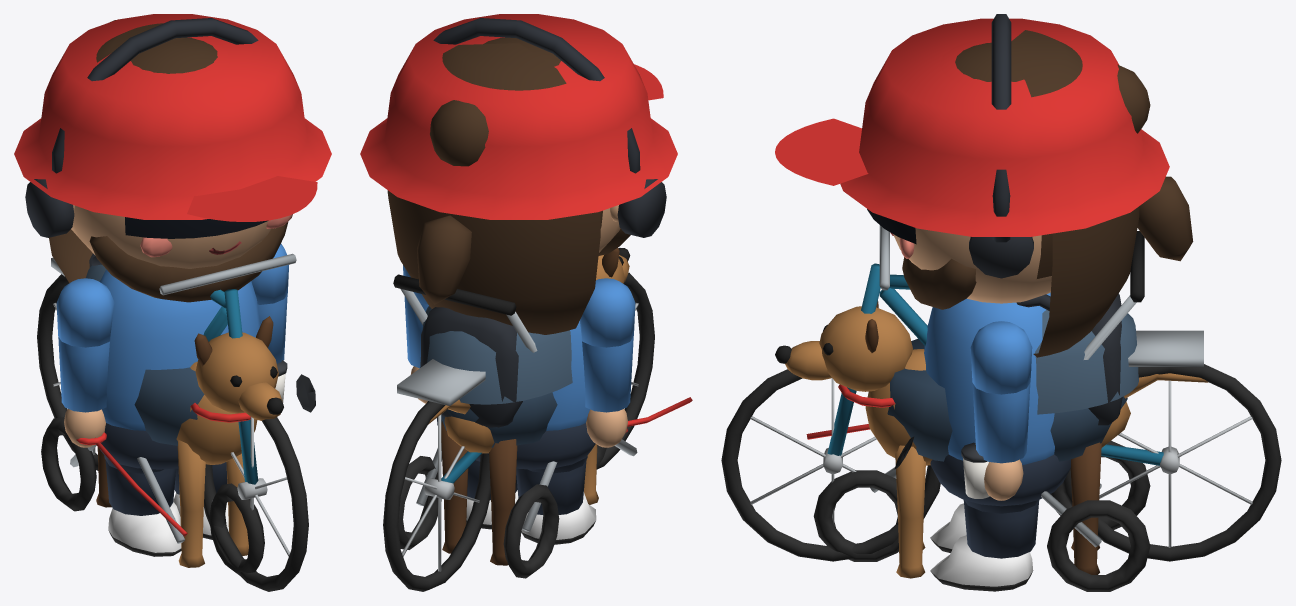
Rendered from people.glb.
3 views of the same model, side by side, from view 1: azimuth 30°, elevation 25°; view 2: azimuth 150°, elevation 25°; view 3: azimuth 270°, elevation 25° (orthographic). The views are drawn at different scales.
Parts seen in each view (by area): view 1: Look_bucket, Torso, Pram_Body, DogHead_Parts, WheelF_Mesh, Head_Face, Look_headphones, Look_cap, Look_beard, ArmL_Long, Bicycle_Frame, LegFL_Mesh (+16 smaller); view 2: Look_bucket, Look_long, Pram_Body, WheelR_Mesh, Look_headphones, Torso, Look_backpack, ArmL_Long, Look_ponytail, Look_bun, Bicycle_Frame, LegBL_Mesh (+13 smaller); view 3: Look_bucket, Pram_Body, Torso, Look_long, WheelR_Mesh, DogHead_Parts, WheelF_Mesh, Bicycle_Frame, Look_cap, ArmR_Long, Look_headphones, Head_Face (+14 smaller).
Part boxes in pixels (bbox=[...]): Look_bucket: bbox=[14, 14, 331, 219]; Torso: bbox=[100, 269, 260, 469]; Pram_Body: bbox=[41, 264, 264, 575]; DogHead_Parts: bbox=[190, 316, 283, 422]; WheelF_Mesh: bbox=[204, 417, 308, 591]; Head_Face: bbox=[71, 205, 292, 268]; Look_headphones: bbox=[25, 18, 258, 237]; Look_cap: bbox=[122, 36, 317, 221]; Look_beard: bbox=[89, 222, 288, 302]; ArmL_Long: bbox=[56, 278, 114, 412]; Bicycle_Frame: bbox=[51, 253, 296, 484]; LegFL_Mesh: bbox=[177, 440, 205, 567]; Look_bucket: bbox=[360, 14, 677, 219]; Look_long: bbox=[387, 43, 600, 334]; Pram_Body: bbox=[393, 274, 637, 578]; WheelR_Mesh: bbox=[383, 401, 490, 591]; Look_headphones: bbox=[433, 18, 666, 237]; Torso: bbox=[436, 321, 595, 469]; Look_backpack: bbox=[421, 307, 522, 427]; ArmL_Long: bbox=[582, 278, 635, 412]; Look_ponytail: bbox=[417, 215, 471, 304]; Look_bun: bbox=[430, 100, 488, 166]; Bicycle_Frame: bbox=[397, 359, 485, 483]; LegBL_Mesh: bbox=[489, 439, 517, 565]; Look_bucket: bbox=[840, 18, 1169, 236]; Pram_Body: bbox=[813, 231, 1150, 591]; Torso: bbox=[924, 292, 1070, 506]; Look_long: bbox=[1011, 30, 1139, 357]; WheelR_Mesh: bbox=[1062, 364, 1281, 561]; DogHead_Parts: bbox=[775, 300, 912, 407]; WheelF_Mesh: bbox=[721, 369, 940, 561]; Bicycle_Frame: bbox=[827, 225, 1203, 465]; Look_cap: bbox=[775, 38, 1027, 185]; ArmR_Long: bbox=[971, 321, 1031, 463]; Look_headphones: bbox=[969, 14, 1033, 278]; Head_Face: bbox=[890, 228, 1051, 303].
Size of the model in its own units: 1.02 by 1.82 by 1.73.
